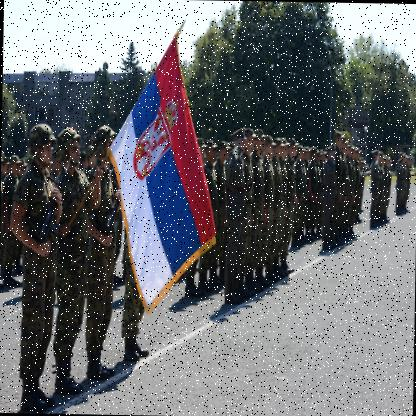rs: (104, 34, 221, 317)
